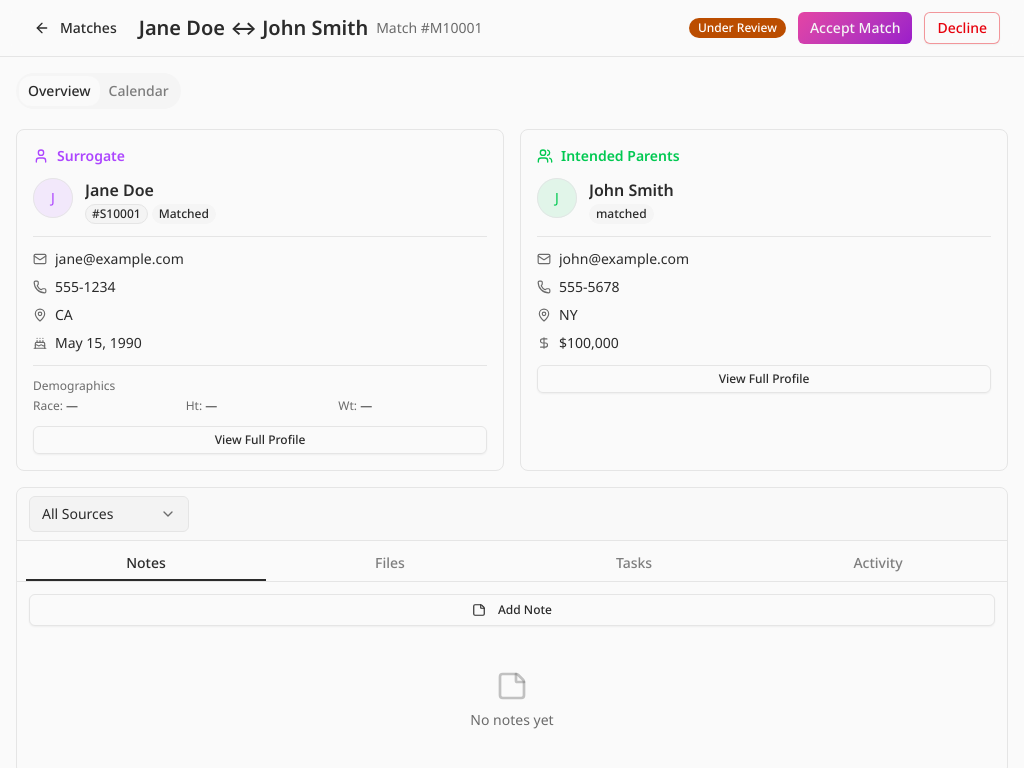
Test: MatchDetailPage › shows upload button in files tab
Click the tab "Files". click: (390, 563)
box: [270,548,510,578]
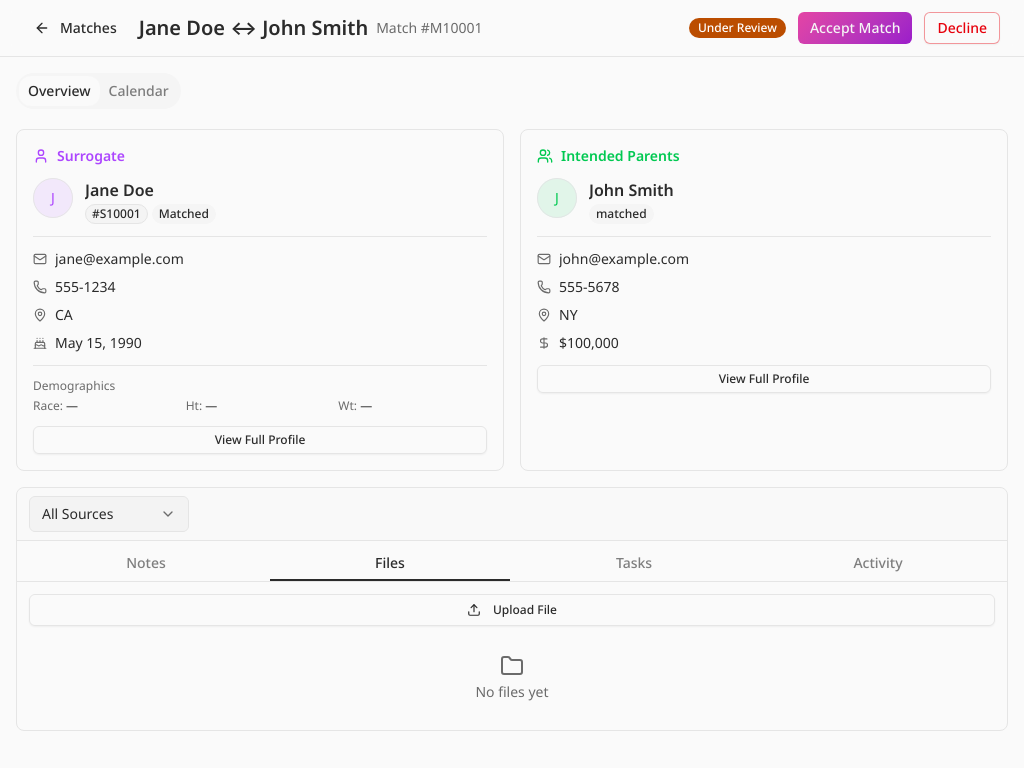
Check: the button "Upload File" is shown, box [29,594,995,626]
